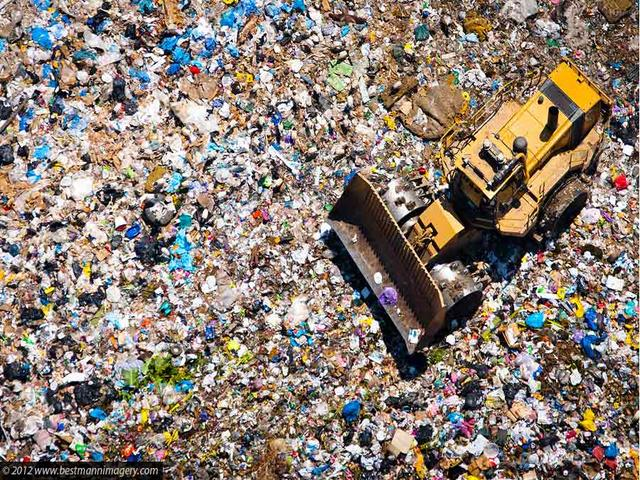garbage: (6, 13, 312, 438), (214, 371, 457, 471), (467, 333, 612, 459), (323, 6, 457, 111)
